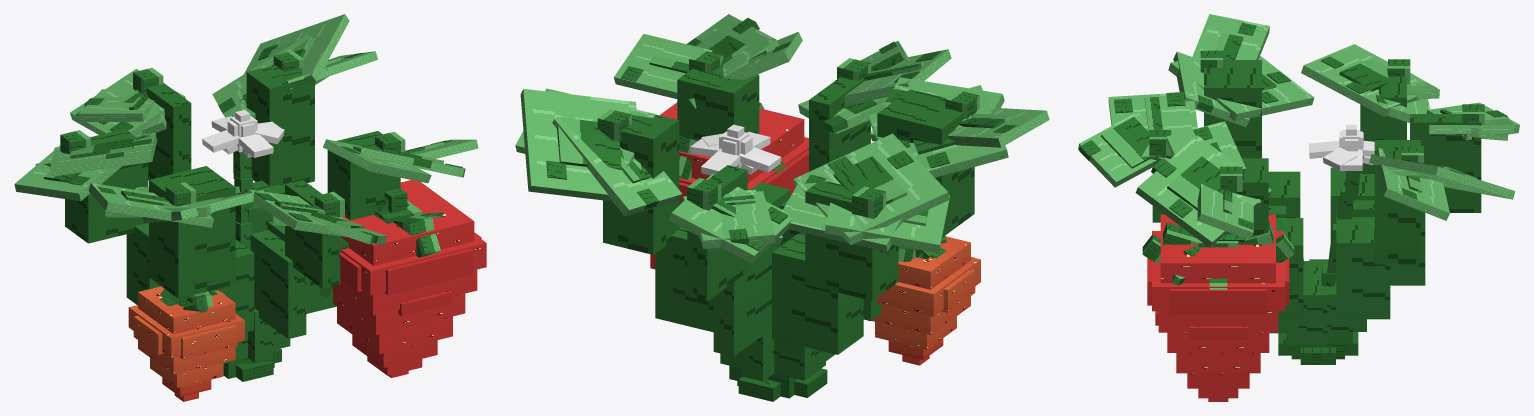
File: dau_tay.glb
3 renders of one model, left to right at view 1: azimuth 30°, elevation 25°; view 2: azimuth 150°, elevation 25°; view 3: azimuth 270°, elevation 25°, orthographic. The views are drawn at different scales.
Visible parts, largest first — view 1: frond_3_petiole_seg3_crest, frond_6_petiole_seg3_crest, main_berry_layer_1_shoulder, frond_2_petiole_seg2, frond_4_petiole_seg3_crest, frond_1_petiole_seg3_crest, frond_2_petiole_seg3_crest, frond_5_petiole_seg3_crest, sub_berry_layer_1_shoulder, main_berry_facet_fwd, frond_6_leaflet_mid_blade, main_berry_layer_5_taper_lower (+49 smaller); view 2: frond_4_petiole_seg2, frond_6_leaflet_mid_blade, frond_6_petiole_seg3_crest, frond_4_petiole_seg3_crest, frond_3_petiole_seg3_crest, frond_1_petiole_seg3_crest, frond_4_leaflet_mid_blade, frond_5_petiole_seg2, frond_6_petiole_seg2, frond_5_petiole_seg3_crest, frond_2_petiole_seg3_crest, frond_6_leaflet_right_blade (+42 smaller); view 3: frond_6_petiole_seg2, main_berry_layer_1_shoulder, frond_5_petiole_seg3_crest, frond_6_petiole_seg3_crest, frond_3_petiole_seg3_crest, frond_1_leaflet_mid_blade, frond_4_leaflet_mid_blade, main_berry_facet_right, frond_3_leaflet_mid_blade, frond_1_petiole_seg1, main_berry_layer_2_max_belly, frond_4_petiole_seg3_crest (+43 smaller).
Part boxes in pixels (x1,y1,x2,y2): frond_3_petiole_seg3_crest: [149, 166, 235, 298]; frond_6_petiole_seg3_crest: [246, 65, 314, 185]; main_berry_layer_1_shoulder: [340, 180, 474, 265]; frond_2_petiole_seg2: [250, 230, 306, 338]; frond_4_petiole_seg3_crest: [65, 129, 148, 243]; frond_1_petiole_seg3_crest: [327, 131, 400, 220]; frond_2_petiole_seg3_crest: [285, 180, 340, 288]; frond_5_petiole_seg3_crest: [147, 83, 191, 180]; sub_berry_layer_1_shoulder: [138, 286, 235, 334]; main_berry_facet_fwd: [384, 249, 473, 295]; frond_6_leaflet_mid_blade: [238, 14, 349, 100]; main_berry_layer_5_taper_lower: [337, 307, 452, 354]; frond_4_petiole_seg2: [772, 234, 863, 354]; frond_6_leaflet_mid_blade: [520, 88, 642, 201]; frond_6_petiole_seg3_crest: [603, 114, 679, 254]; frond_4_petiole_seg3_crest: [805, 180, 898, 300]; frond_3_petiole_seg3_crest: [877, 89, 974, 237]; frond_1_petiole_seg3_crest: [677, 65, 759, 140]; frond_4_leaflet_mid_blade: [793, 133, 949, 245]; frond_5_petiole_seg2: [713, 245, 776, 356]; frond_6_petiole_seg2: [655, 226, 713, 332]; frond_5_petiole_seg3_crest: [687, 165, 747, 301]; frond_2_petiole_seg3_crest: [809, 77, 870, 171]; frond_6_leaflet_right_blade: [552, 114, 682, 216]; frond_6_petiole_seg2: [1336, 217, 1390, 319]; main_berry_layer_1_shoulder: [1160, 214, 1275, 283]; frond_5_petiole_seg3_crest: [1410, 114, 1481, 212]; frond_6_petiole_seg3_crest: [1374, 140, 1420, 264]; frond_3_petiole_seg3_crest: [1204, 60, 1261, 158]; frond_1_leaflet_mid_blade: [1135, 135, 1271, 247]; frond_4_leaflet_mid_blade: [1301, 44, 1436, 116]; main_berry_facet_right: [1169, 289, 1267, 314]; frond_3_leaflet_mid_blade: [1168, 56, 1314, 121]; frond_1_petiole_seg1: [1286, 274, 1327, 345]; main_berry_layer_2_max_belly: [1152, 231, 1284, 311]; frond_4_petiole_seg3_crest: [1360, 68, 1406, 173].
Size of the model in its own units: 1.18 by 0.8158 by 1.24.
1 material, 1 textured.
